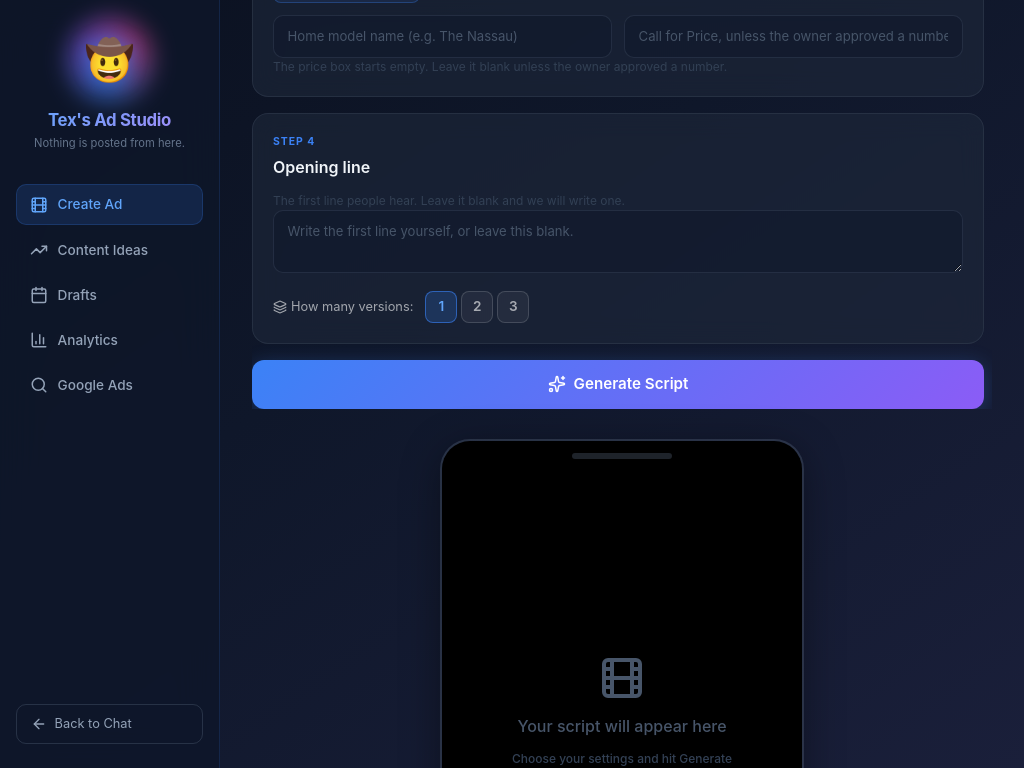
Test: Ad Studio prepare draft › opens Drafts and closes the preview when preparation succeeds
The width and height of the screenshot is (1024, 768).
(page scrolled)
Click the button "Generate Script": (618, 384) [252, 360, 984, 410]
(page scrolled)
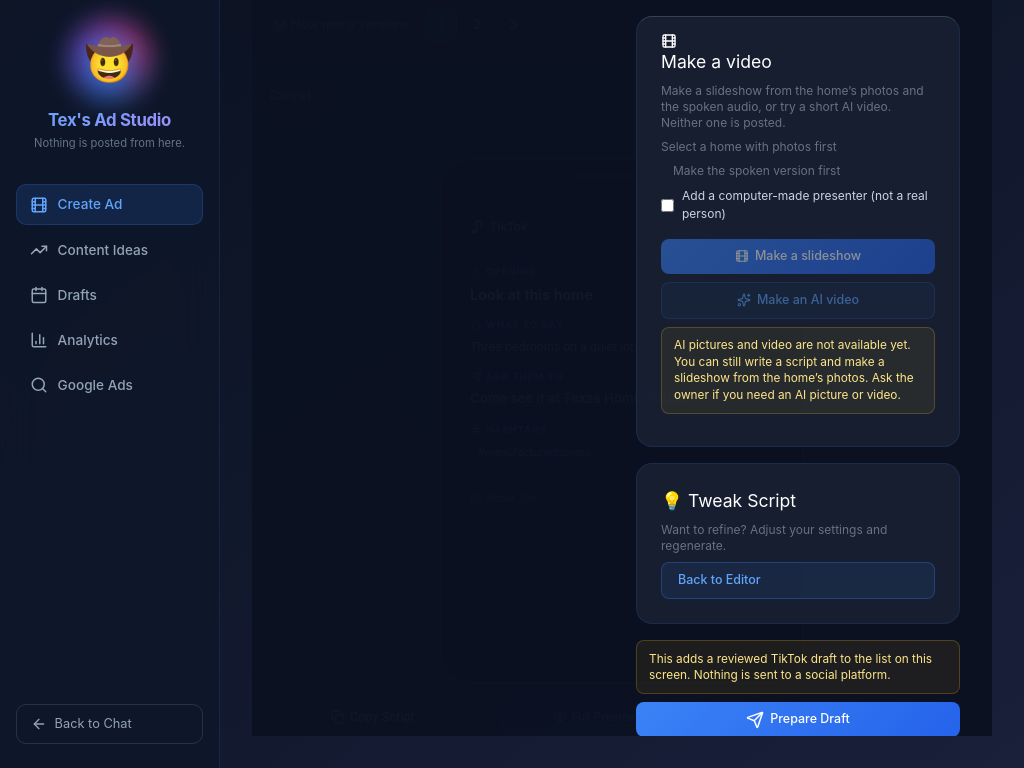
Click the button "Prepare Draft": (798, 720) [636, 702, 960, 737]
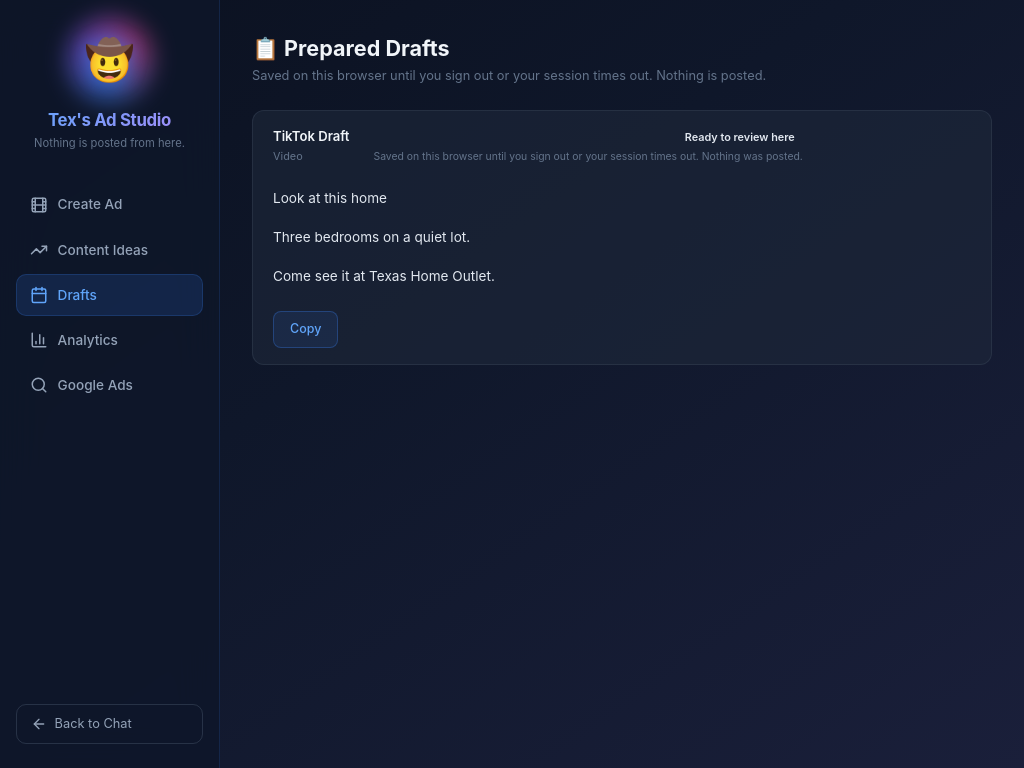
Now the text "TikTok draft" is shown, box [273, 127, 350, 146]
Now the text "Ready to review here" is shown, box [685, 130, 795, 144]
Now the text "Saved on this browser until you sign out or your session times out. Nothing was posted." is shown, box [374, 150, 803, 163]
